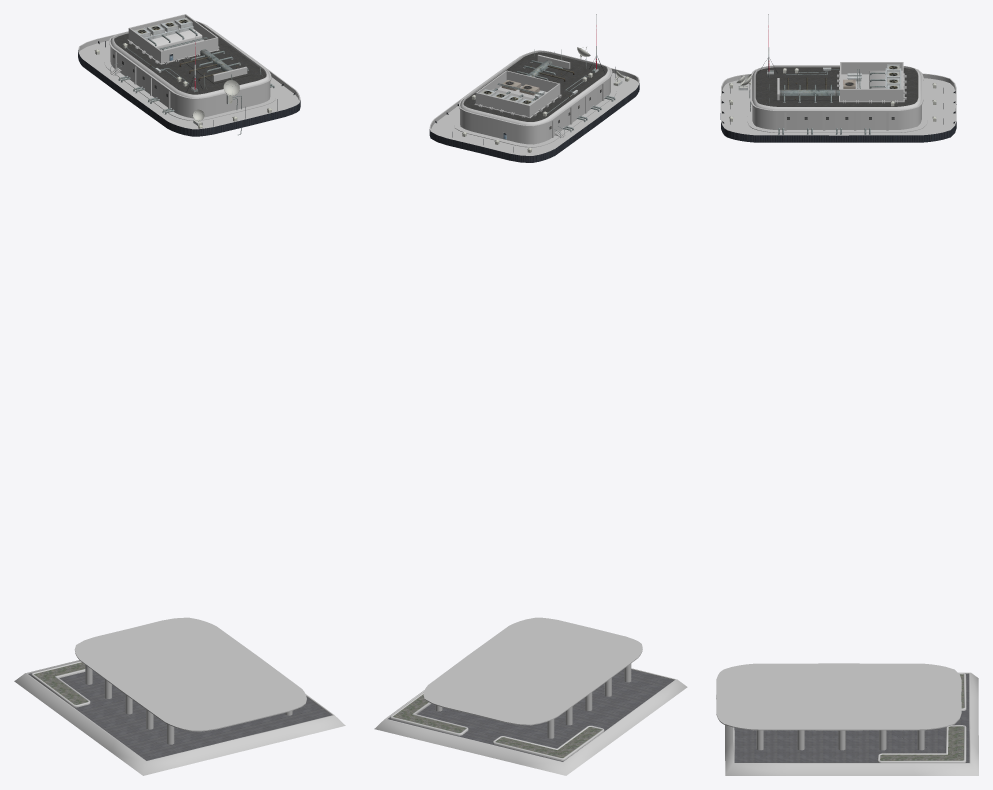
The model's file is u2SWBuild2.gltf.
The picture shows the model from 3 angles, left to right: view 1: azimuth 30°, elevation 25°; view 2: azimuth 150°, elevation 25°; view 3: azimuth 270°, elevation 25°; orthographic projection. The views are drawn at different scales.
Visible parts, largest first — view 1: u2SWBuild2; view 2: u2SWBuild2; view 3: u2SWBuild2.
Boxes of the visible parts, <box> form: u2SWBuild2: <box>14,14,345,775</box>; u2SWBuild2: <box>374,14,687,775</box>; u2SWBuild2: <box>716,14,978,775</box>.
Size of the model in its own units: 14.98 by 50.08 by 17.03.
